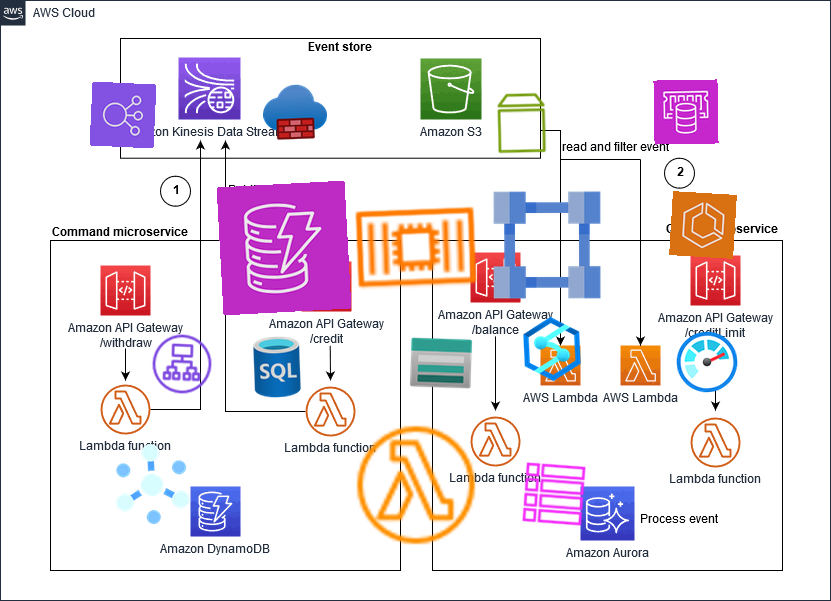aws_amazon_dynamodb: (216, 180, 352, 316)
aws_amazon_elastic_container_service: (669, 191, 737, 259)
aws_amazon_elasticache: (653, 79, 719, 145)
aws_dynamodb_table: (519, 459, 589, 529)
aws_elastic_block_store_volume: (489, 90, 555, 156)
aws_elastic_container_service_container_2: (349, 180, 483, 314)
aws_elastic_load_balancing: (89, 81, 157, 149)
aws_elastic_load_balancing_application_load_balancer: (148, 330, 216, 398)
aws_lambda_lambda_function: (351, 420, 481, 550)
azure_firewalls: (261, 78, 329, 146)
azure_monitor: (672, 327, 742, 397)
azure_sql_database: (243, 333, 311, 401)
azure_storage_accounts: (407, 329, 475, 397)
azure_synapse_analytics: (518, 315, 586, 383)
gcp_pubsub: (101, 433, 203, 535)
gcp_virtual_private_cloud: (482, 180, 612, 310)
